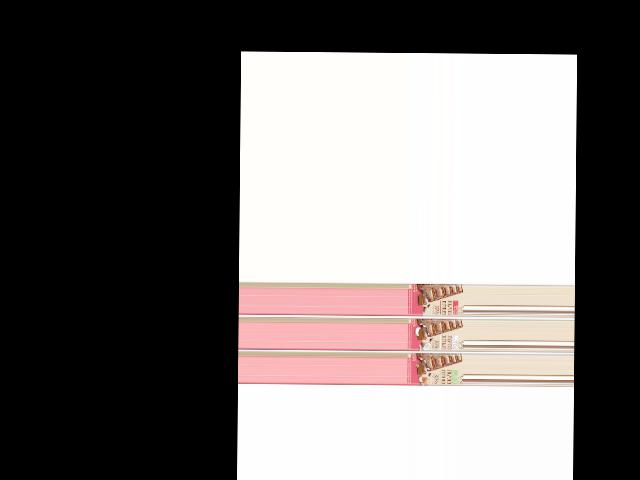chocolate: (406, 353, 462, 387)
